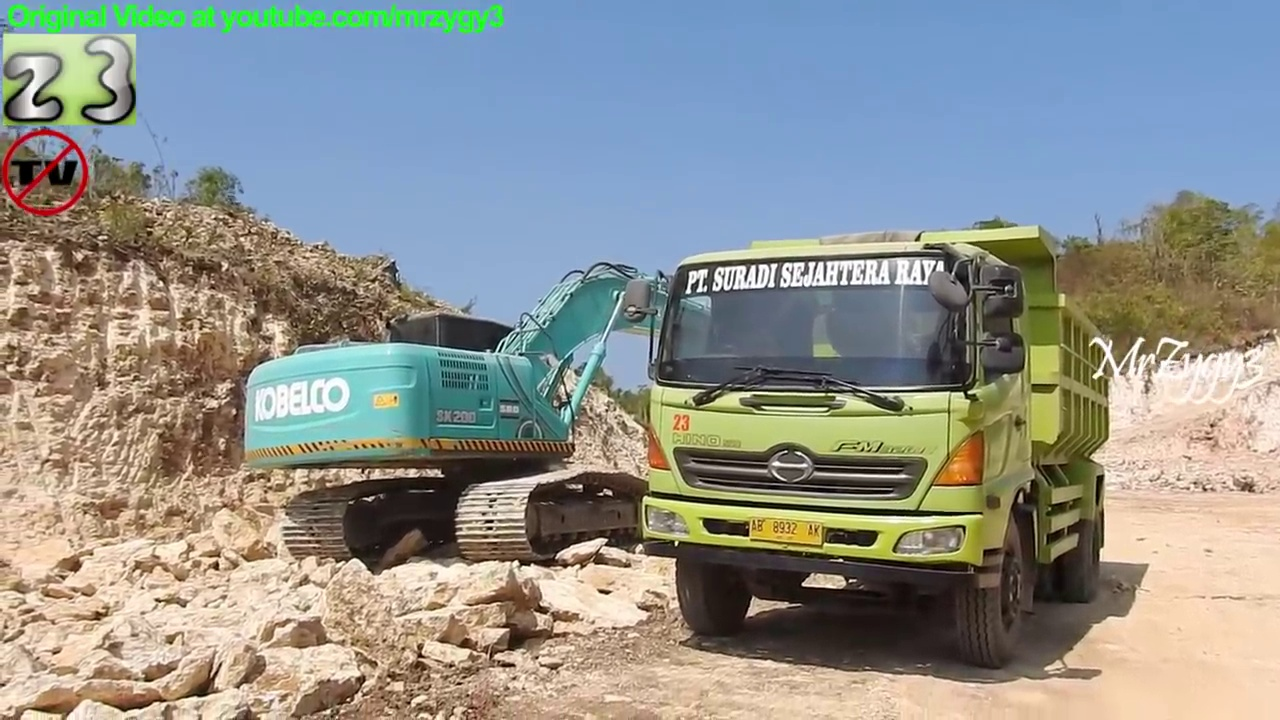excavator: (231, 255, 929, 575)
truck: (617, 217, 1122, 675)
